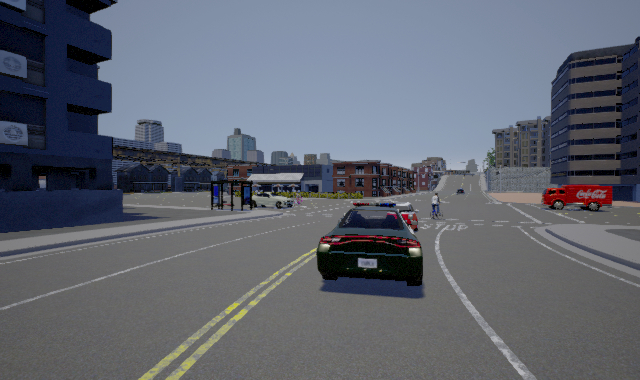bike: (428, 193, 444, 220)
vehicle: (316, 202, 423, 286), (541, 185, 612, 212), (252, 192, 293, 210)
